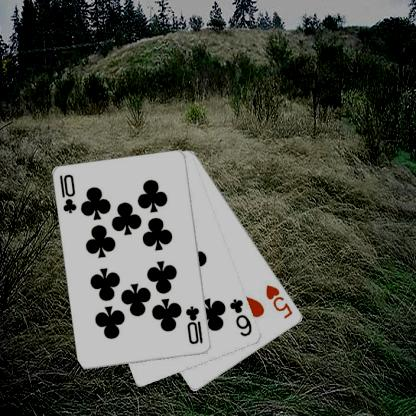10C: (57, 172, 78, 214), (184, 303, 204, 346)
5H: (263, 282, 294, 320)
6C: (227, 296, 253, 338)
